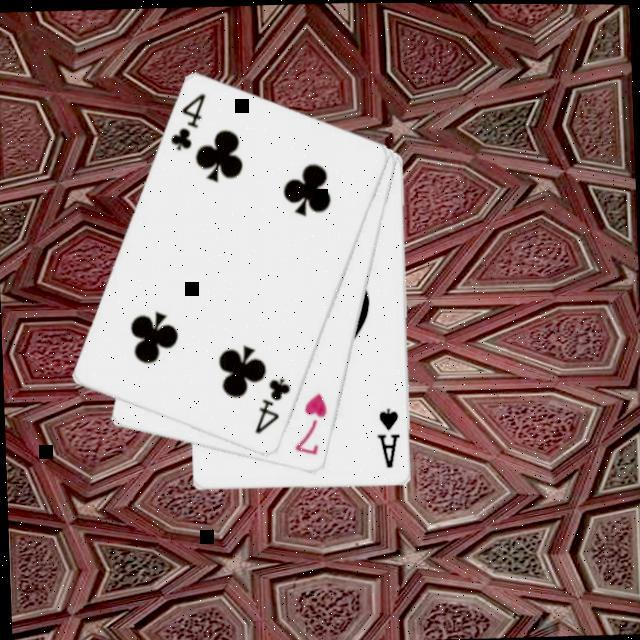4C: (166, 90, 212, 155), (250, 374, 296, 437)
7H: (290, 389, 332, 459)
AS: (374, 405, 406, 472)
